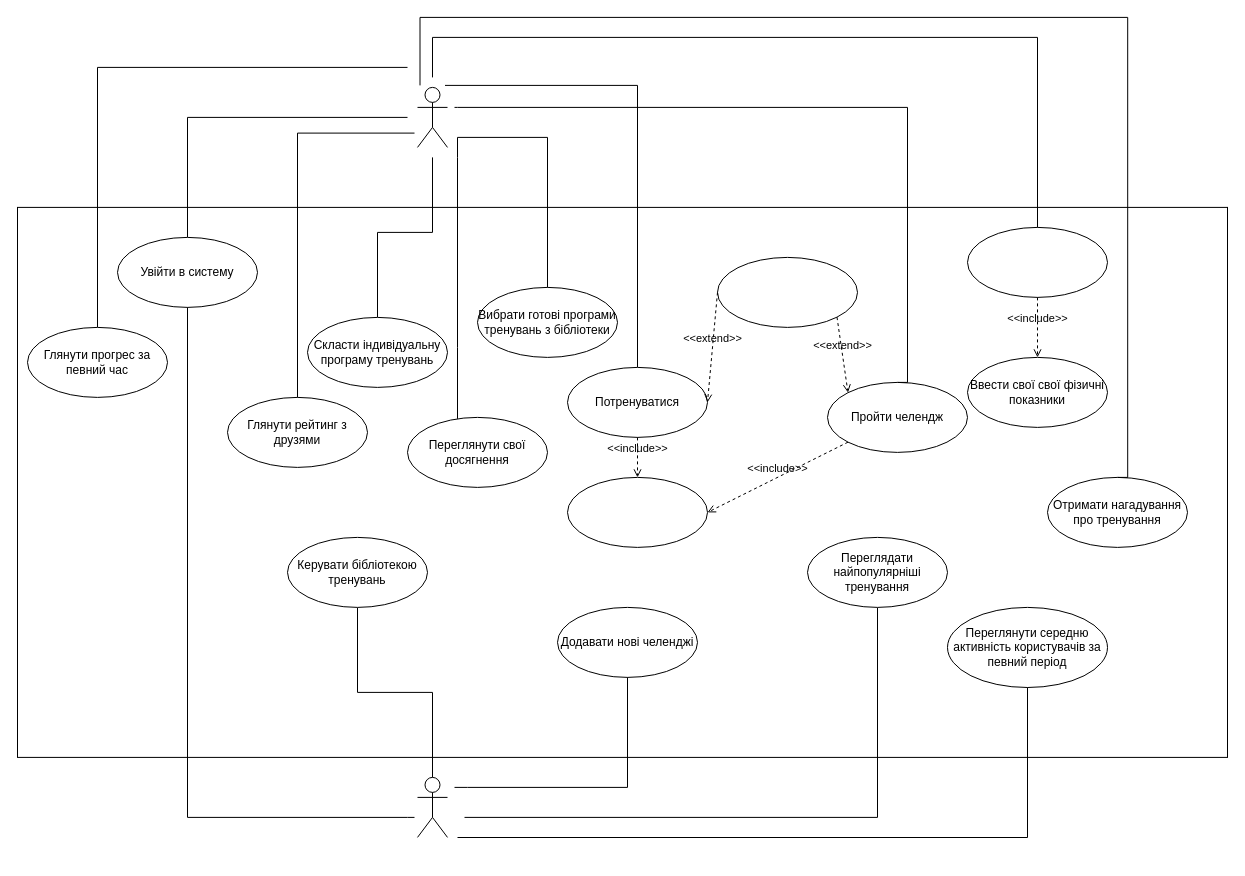
Some shapes in this 1245 by 876 pixel diagram are drawn without their labels. The shapes that lost their labels are listed below. From the top down, each one's centre as x and y in pixels, then its label:
At (x=432, y=116): "Користувач".
At (x=1037, y=261): "Зареєструватися".
At (x=787, y=291): "Отримати досягнення".
At (x=637, y=511): "Отримати підсумок тренування".
At (x=432, y=806): "Адміністратор".
